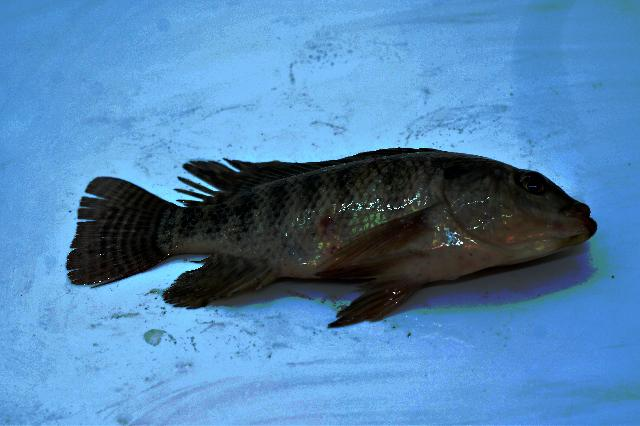Columnaris Disease: (67, 148, 596, 327)
